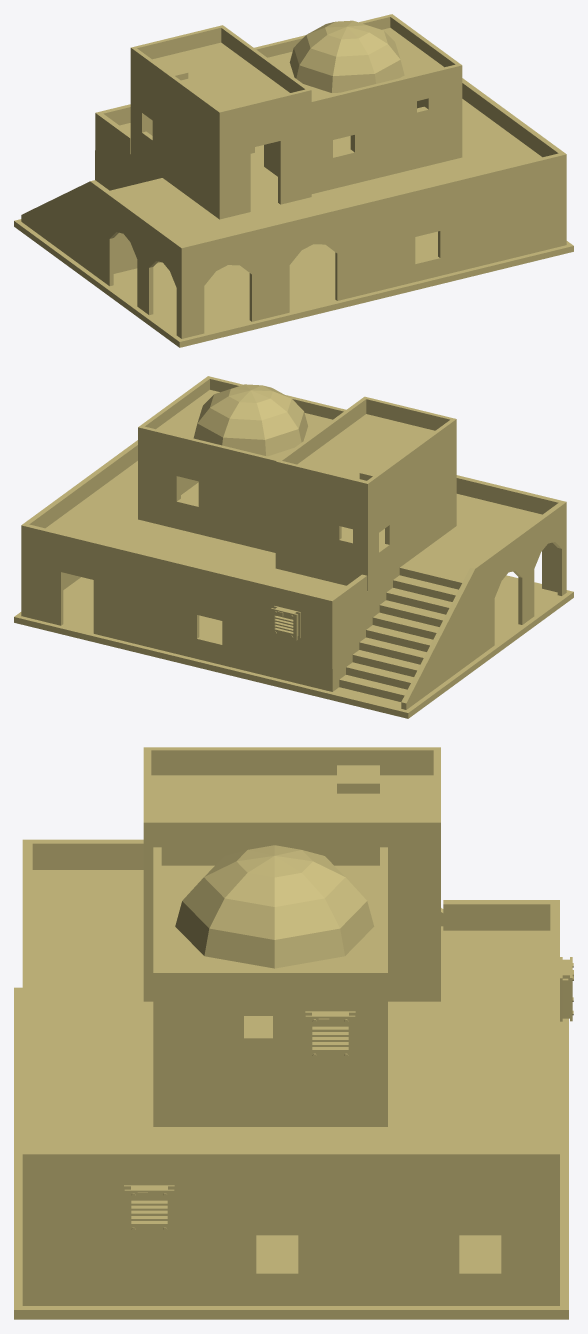
File: DesertBuilding4.fbx
3 renders of one model, top to bottom at view 1: azimuth 30°, elevation 25°; view 2: azimuth 150°, elevation 25°; view 3: azimuth 270°, elevation 25°, orthographic. The views are drawn at different scales.
Parts seen in each view (by area): view 1: Cube.007, Cube.006, Sphere.004; view 2: Cube.007, Cube.006, Sphere.004; view 3: Cube.007, Cube.006, Sphere.004.
Part boxes in pixels (left/top/right/bottom): Cube.007: left=14, top=78, right=573, bottom=347; Cube.006: left=130, top=14, right=462, bottom=219; Sphere.004: left=289, top=20, right=404, bottom=92; Cube.007: left=14, top=440, right=573, bottom=718; Cube.006: left=138, top=376, right=456, bottom=591; Sphere.004: left=193, top=384, right=307, bottom=456; Cube.007: left=14, top=839, right=573, bottom=1319; Cube.006: left=143, top=747, right=440, bottom=1126; Sphere.004: left=175, top=845, right=374, bottom=968.
Bounding box in the file's own units: 1662 × 818 × 1213.
